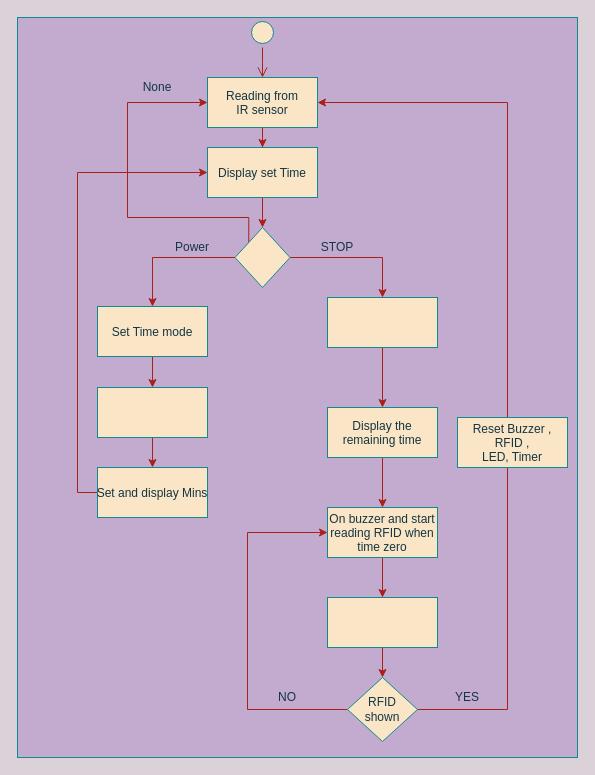
Image size: 595x775. Some labels were removed from this diagram. The centre of each missing label's shape, as x and y in pixels:
"Button ?" belongs at (262,257).
"On Mario tone and LED Blinks" belongs at (382,622).
"Set and display Hrs" belongs at (152,412).
"Start Count down Timer" belongs at (382,322).
